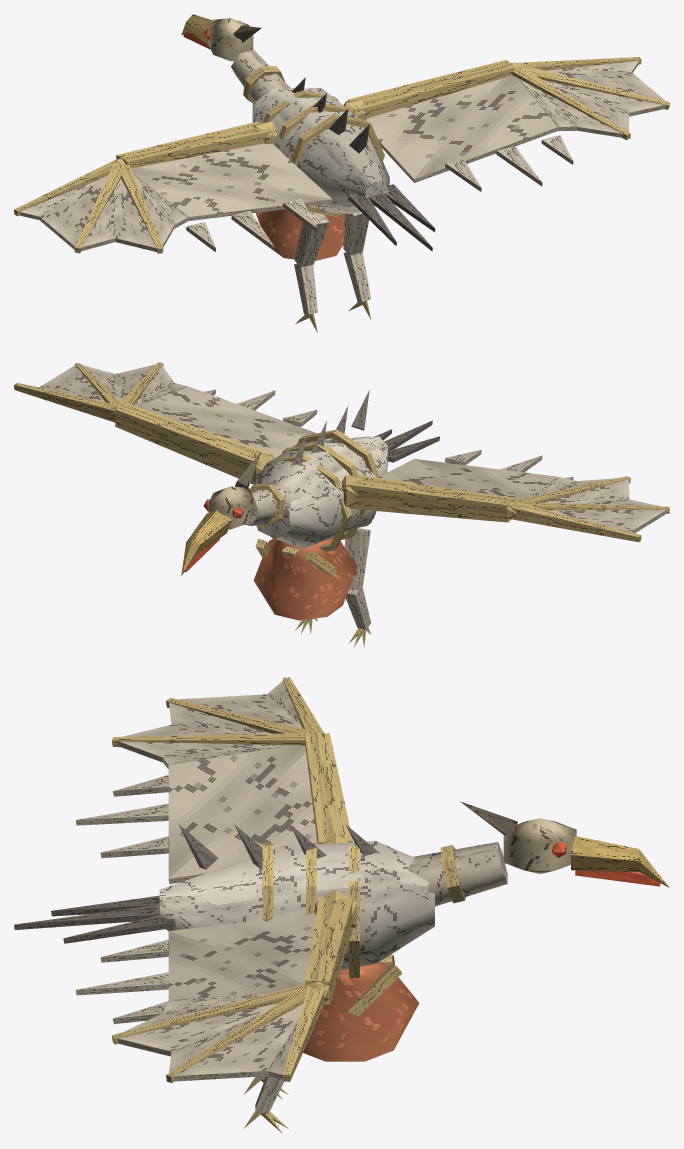
Rendered from enemy_harrier.gltf.
3 renders of one model, top to bottom at view 1: azimuth 30°, elevation 25°; view 2: azimuth 150°, elevation 25°; view 3: azimuth 270°, elevation 25°, orthographic. The views are drawn at different scales.
Visible parts, largest first — view 1: wing_r, wing_l, body, tip_l, tip_r, legs, heart, head, tail, neck; view 2: body, wing_r, wing_l, tip_l, heart, tip_r, head, legs, neck, tail; view 3: body, wing_l, wing_r, tip_r, tip_l, heart, head, neck, tail, legs, glare.
Part boxes in pixels (x1,y1,x2,y2): wing_r: (343, 60, 573, 191); wing_l: (116, 121, 332, 251); body: (252, 77, 389, 216); tip_l: (14, 158, 188, 253); tip_r: (510, 57, 669, 139); legs: (294, 211, 371, 332); heart: (255, 209, 345, 260); head: (181, 14, 261, 61); tail: (348, 184, 435, 251); neck: (231, 50, 290, 102); body: (254, 390, 387, 578); wing_r: (115, 386, 331, 484); wing_l: (341, 450, 573, 522); tip_l: (507, 476, 669, 542); heart: (253, 537, 357, 620); tip_r: (14, 362, 188, 422); head: (181, 451, 261, 575); legs: (295, 528, 371, 647); neck: (245, 482, 290, 527); tail: (374, 420, 439, 462); body: (159, 824, 434, 1015); wing_l: (76, 733, 352, 884); wing_r: (76, 890, 356, 1024); tip_r: (112, 981, 328, 1082); tip_l: (112, 677, 323, 768); heart: (303, 955, 419, 1061); head: (460, 801, 669, 887); neck: (407, 842, 507, 906); tail: (14, 895, 175, 943); legs: (243, 1076, 288, 1133); glare: (552, 842, 660, 886).
Size of the model in its own units: 3.05 by 1.11 by 2.12.
11 materials, 11 textured.
